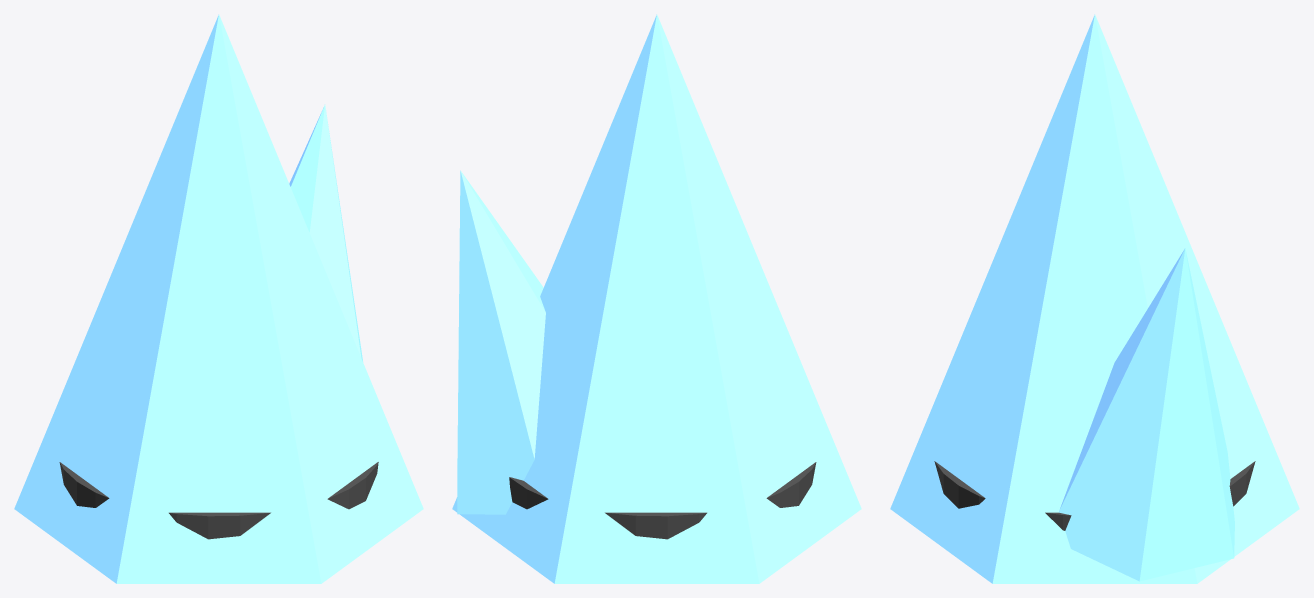
The model's file is nutrient_crystal_blue.glb.
The picture shows the model from 3 angles, left to right: view 1: azimuth 30°, elevation 25°; view 2: azimuth 150°, elevation 25°; view 3: azimuth 270°, elevation 25°; orthographic projection.
Parts seen in each view (by area): view 1: Crystal_blue, Cone, Cylinder; view 2: Crystal_blue, Cone, Cylinder; view 3: Crystal_blue, Cone, Cylinder.
Boxes of the visible parts, box(x1,y1,x2,y2) form: Crystal_blue: box(14, 14, 423, 583); Cone: box(289, 104, 362, 361); Cylinder: box(59, 462, 378, 539); Crystal_blue: box(452, 14, 861, 583); Cone: box(457, 170, 545, 514); Cylinder: box(509, 462, 816, 539); Crystal_blue: box(890, 14, 1299, 583); Cone: box(1059, 248, 1234, 581); Cylinder: box(934, 461, 1255, 530).
Size of the model in its own units: 0.2798 by 0.4 by 0.3.
